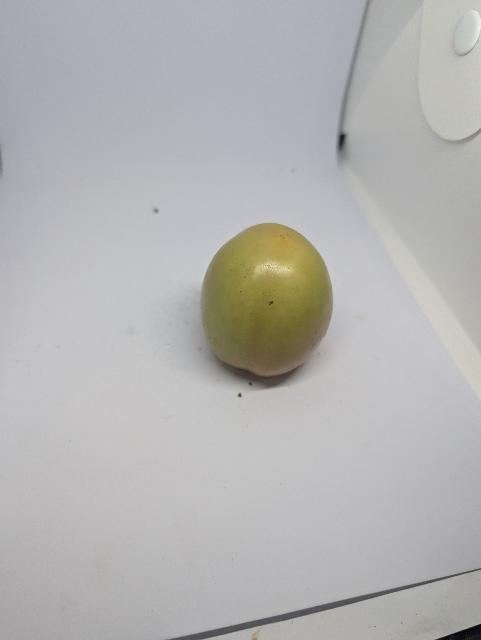breaker: (201, 223, 333, 376)
